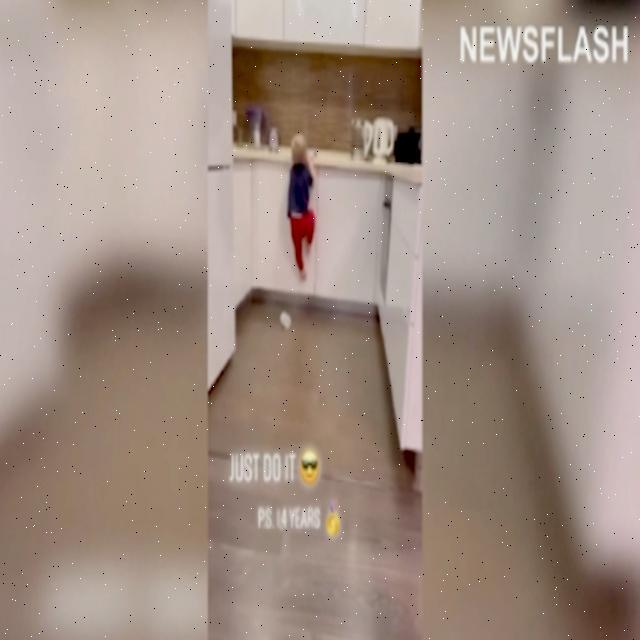child: (283, 127, 321, 284)
